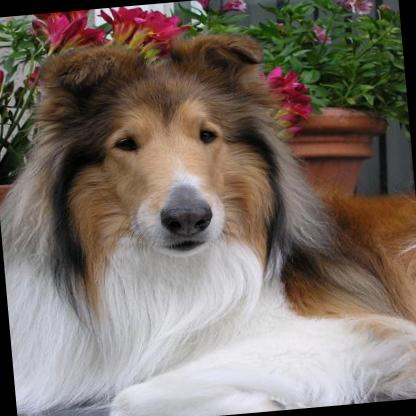collie: (0, 12, 416, 416)
